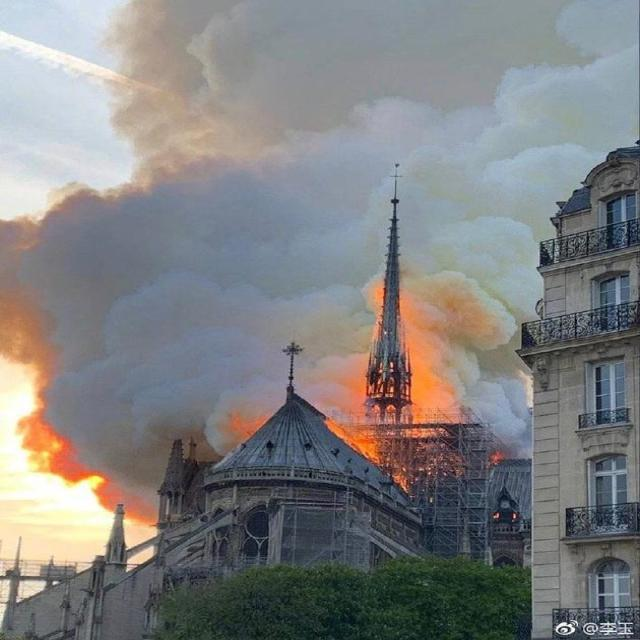other: (325, 309, 457, 471), (16, 406, 134, 536)
smoke: (57, 16, 517, 395)
